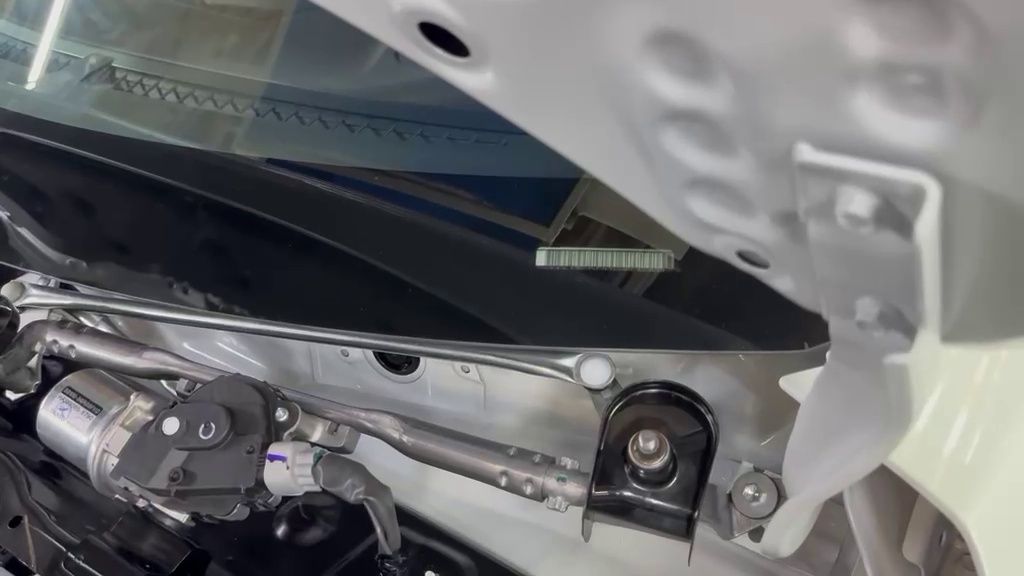barcode: (558, 369, 757, 570)
hinge: (508, 235, 703, 298)
